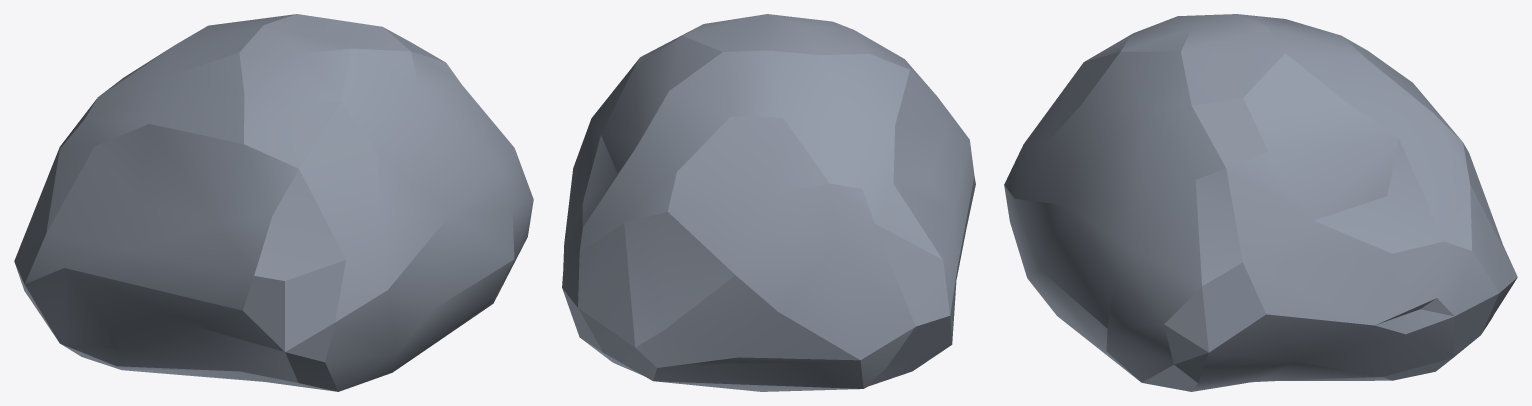
Rendered from Stone 5.fbx.
The picture shows the model from 3 angles, left to right: view 1: azimuth 30°, elevation 25°; view 2: azimuth 150°, elevation 25°; view 3: azimuth 270°, elevation 25°; orthographic projection. The views are drawn at different scales.
Visible parts, largest first — view 1: Stone.005; view 2: Stone.005; view 3: Stone.005.
Boxes of the visible parts, <box> form: Stone.005: <box>14,14,533,391</box>; Stone.005: <box>562,14,975,391</box>; Stone.005: <box>1004,14,1517,391</box>.
Size of the model in its own units: 172 by 117 by 170.
